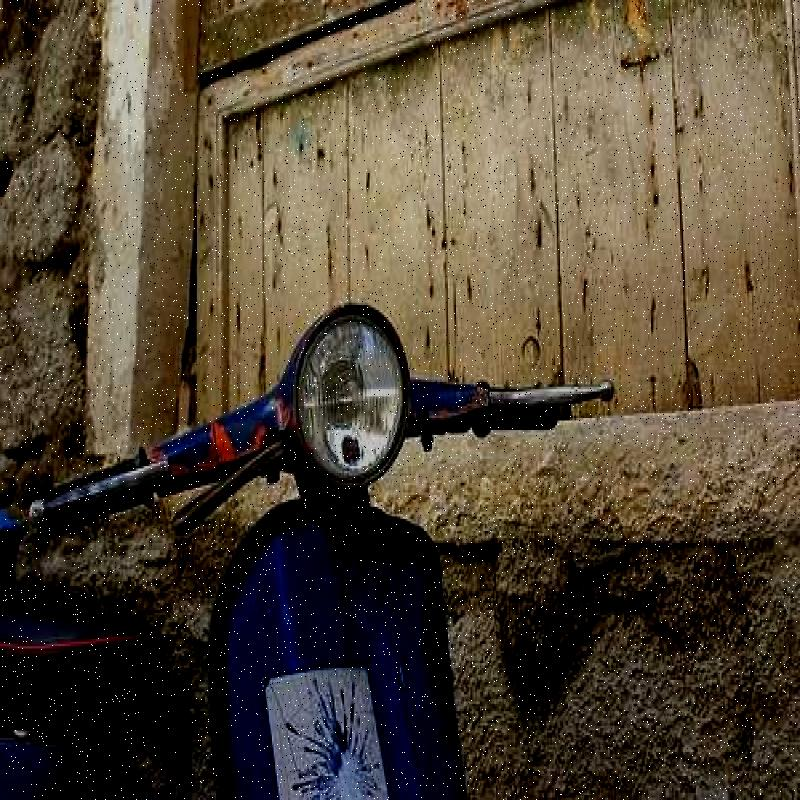bike: (0, 290, 569, 800)
